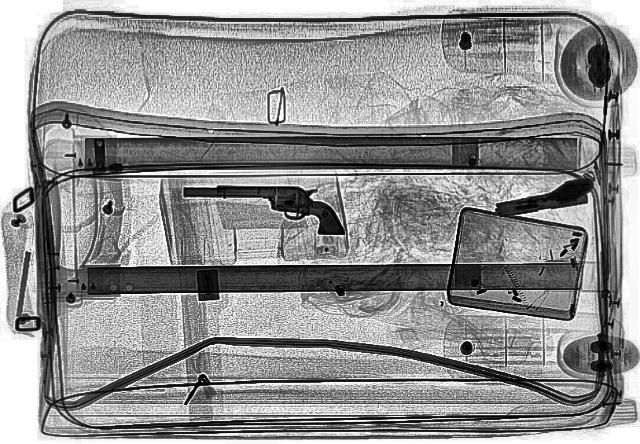Gun: (178, 181, 352, 235), (488, 174, 600, 222)
